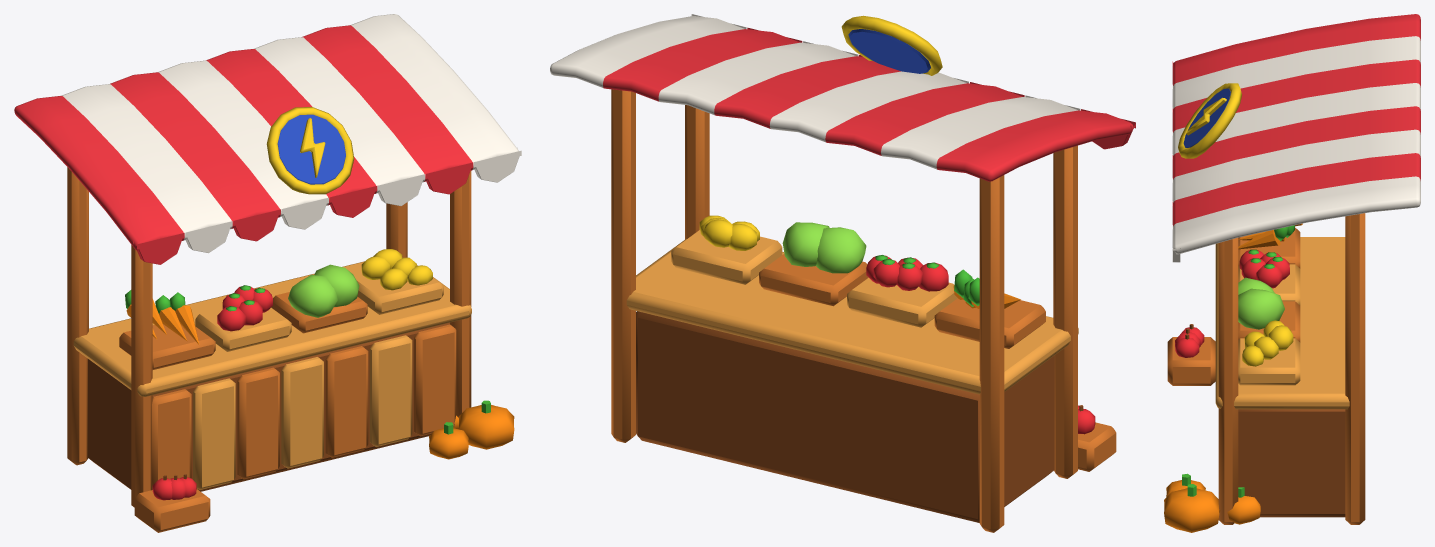
Rendered from market-stall.glb.
The picture shows the model from 3 angles, left to right: view 1: azimuth 30°, elevation 25°; view 2: azimuth 150°, elevation 25°; view 3: azimuth 270°, elevation 25°; orthographic projection. The views are drawn at different scales.
Parts seen in each view (by area): view 1: market-stall; view 2: market-stall; view 3: market-stall.
Boxes of the visible parts, <box> form: market-stall: <box>14,14,521,532</box>; market-stall: <box>550,14,1135,532</box>; market-stall: <box>1164,14,1420,532</box>.
Size of the model in its own units: 3.15 by 2.8 by 1.82.
